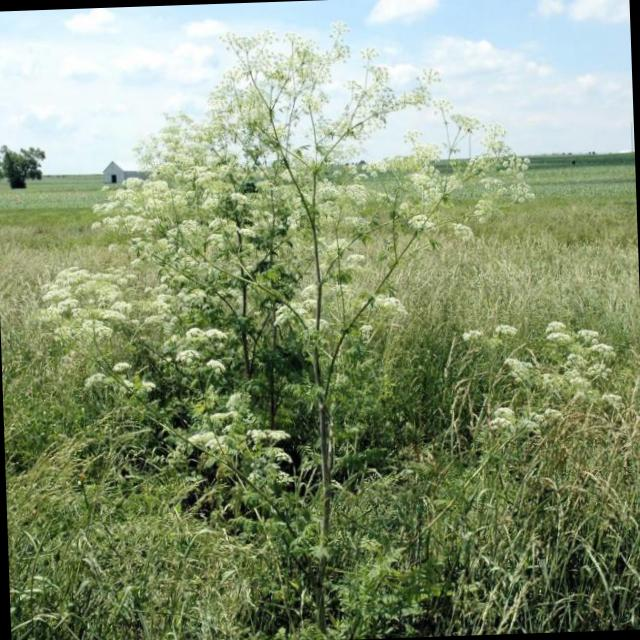Poisonous-Hemlock: (108, 20, 542, 357)
